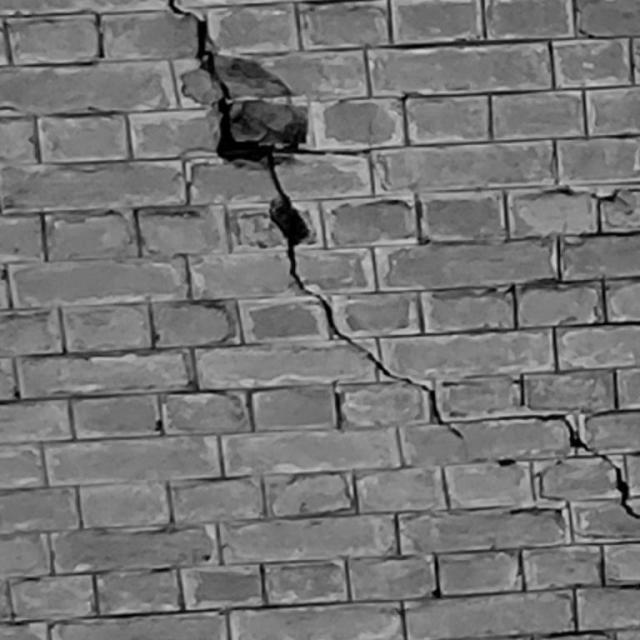crack: (167, 1, 515, 467), (527, 412, 640, 518)
